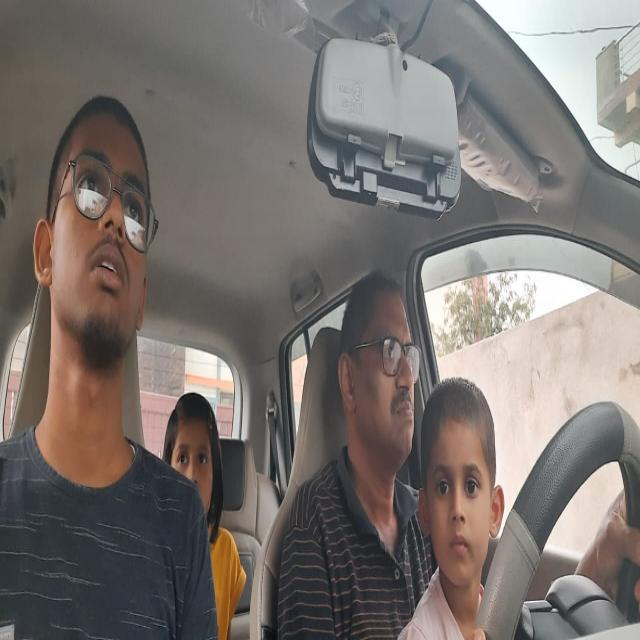child: (419, 387, 507, 582)
person: (34, 94, 158, 381), (336, 268, 418, 477), (156, 384, 224, 530)
